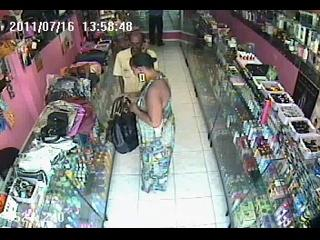Normal: (124, 52, 176, 194), (112, 30, 158, 94), (111, 112, 139, 154), (148, 10, 166, 46), (75, 50, 108, 66)
